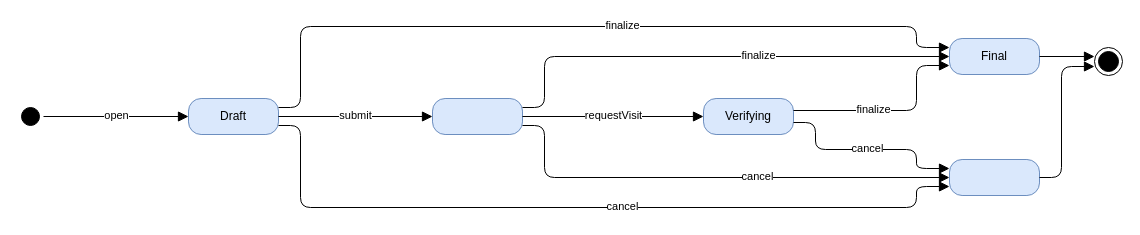
The diagram is 1140 pixels wide and 235 high, and some of its shapes have lost their labels. Here are the shapes that lost their labels. From the top down, the box of each, then its label:
(432, 98, 522, 134): Submitted
(948, 158, 1040, 196): Cancelled
